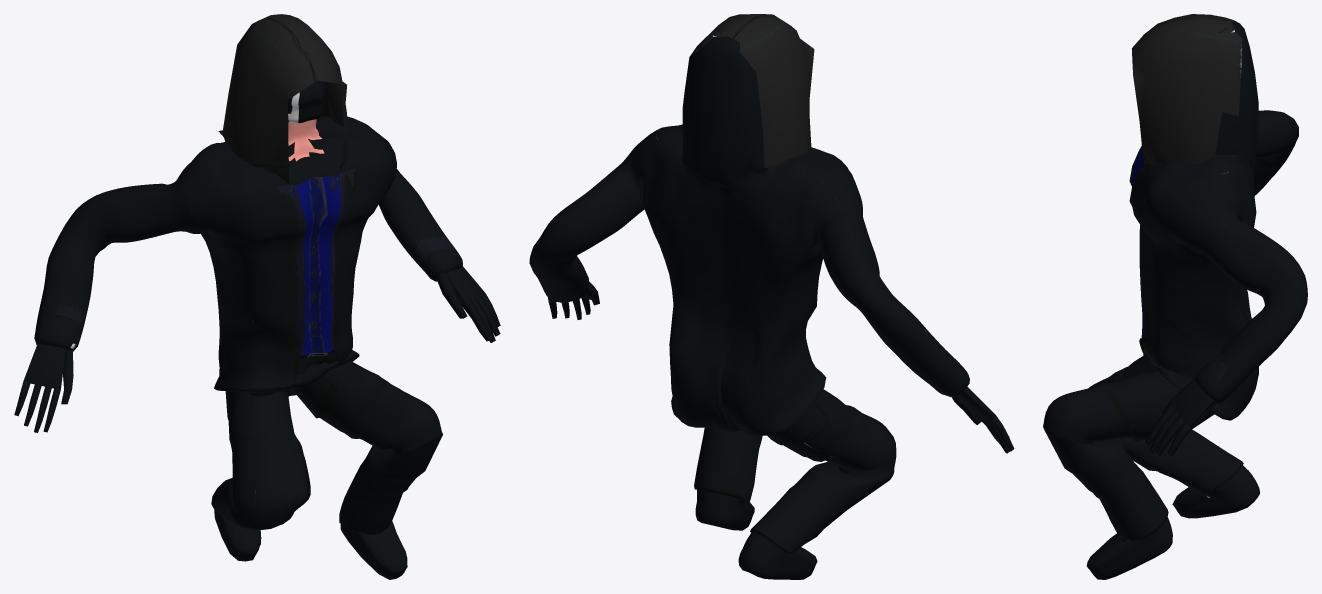
File: keyFrame05.obj
The picture shows the model from 3 angles, left to right: view 1: azimuth 30°, elevation 25°; view 2: azimuth 150°, elevation 25°; view 3: azimuth 270°, elevation 25°; orthographic projection. The views are drawn at different scales.
Visible parts, largest first — view 1: pasted__polySurface71 group4; view 2: pasted__polySurface71 group4; view 3: pasted__polySurface71 group4.
Boxes of the visible parts, x1,y1,x2,y2 form: pasted__polySurface71 group4: (14, 14, 500, 579); pasted__polySurface71 group4: (529, 14, 1014, 579); pasted__polySurface71 group4: (1043, 14, 1307, 579).
Size of the model in its own units: 10.36 by 11.4 by 5.15.
